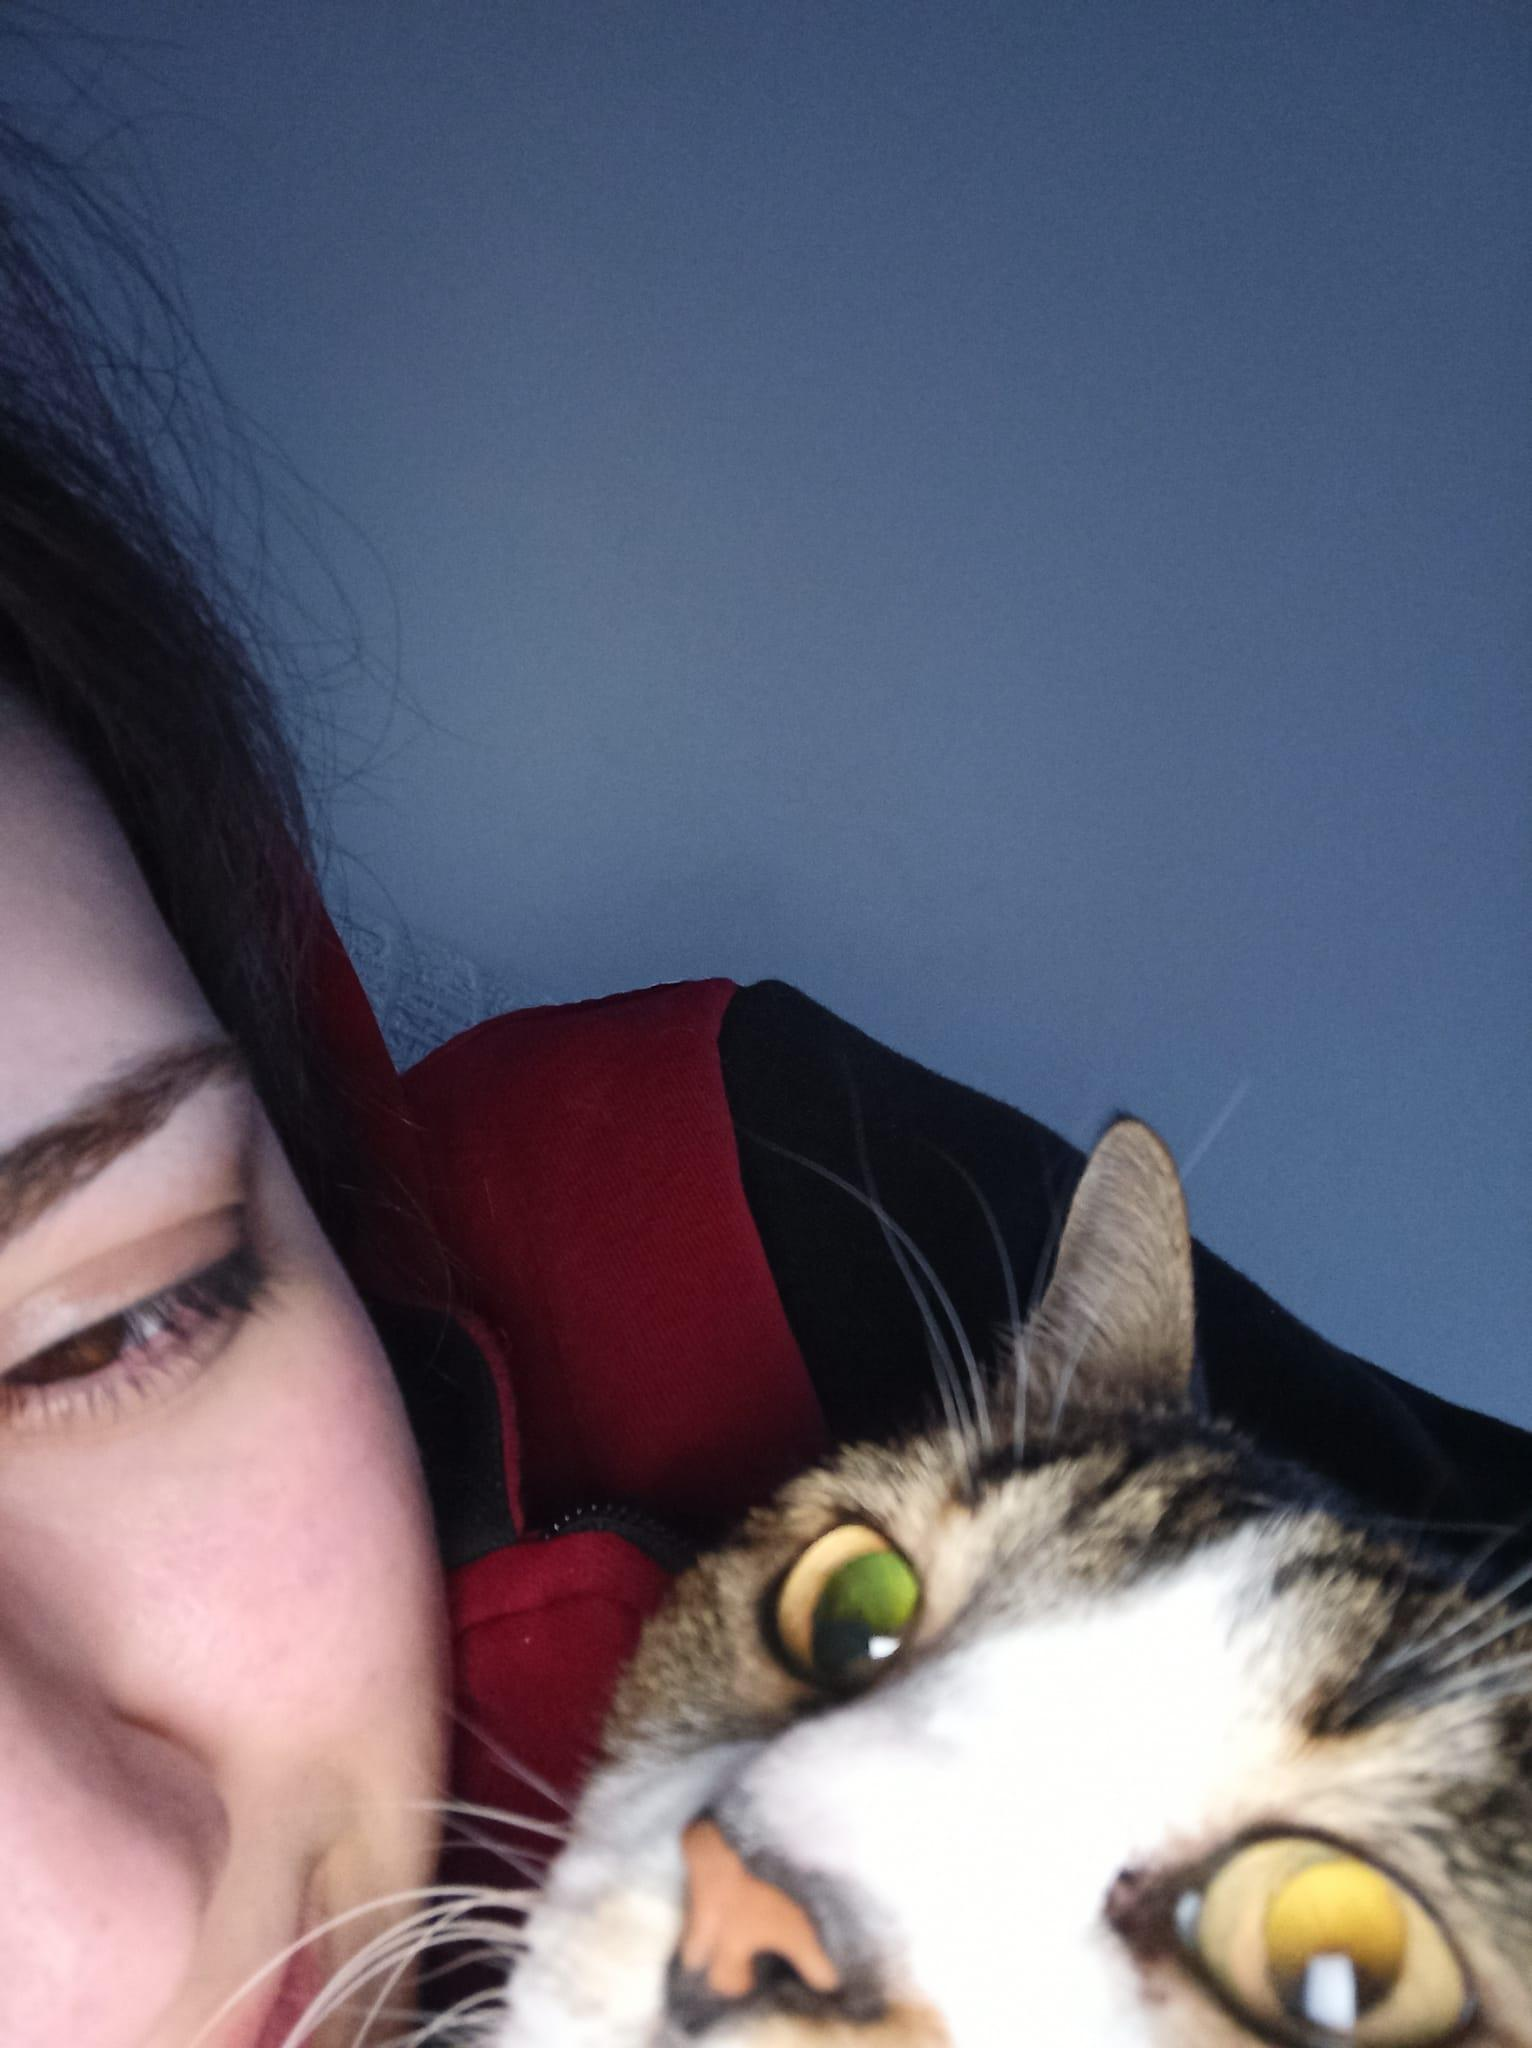kedo: (579, 1113, 1532, 2048)
